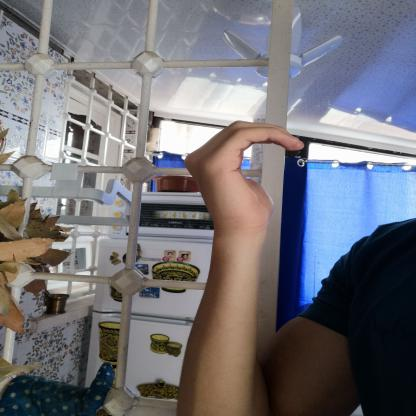HAA: (161, 109, 328, 238)
